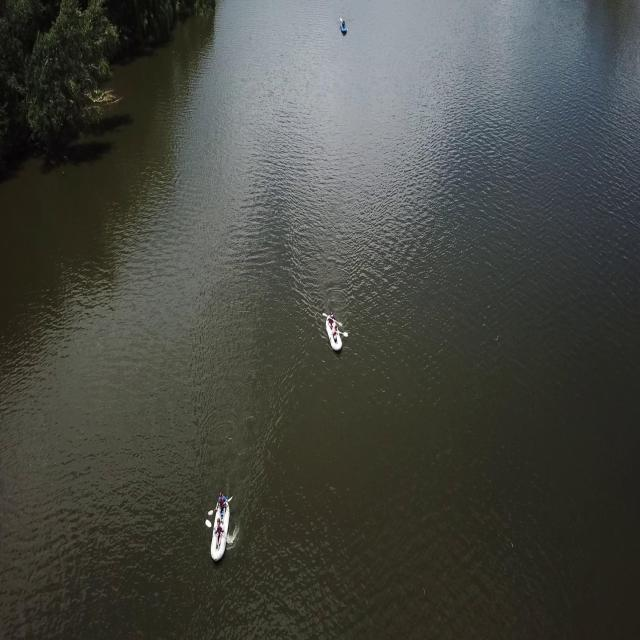kayak: (207, 493, 235, 572), (322, 310, 348, 355), (340, 18, 348, 38)
